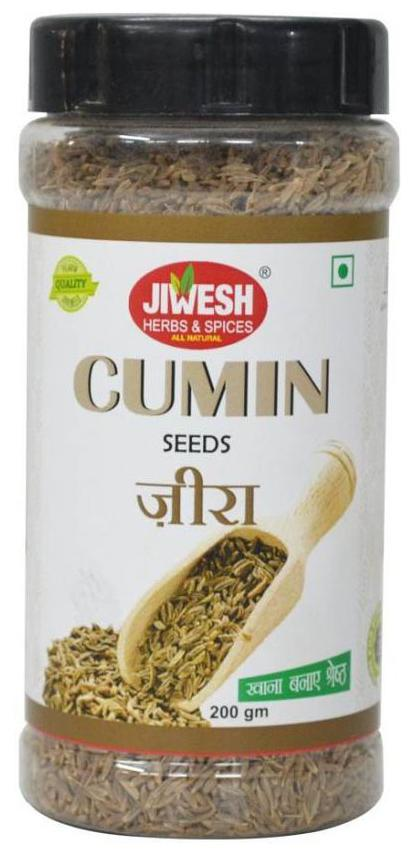JAR: (11, 4, 408, 845)
